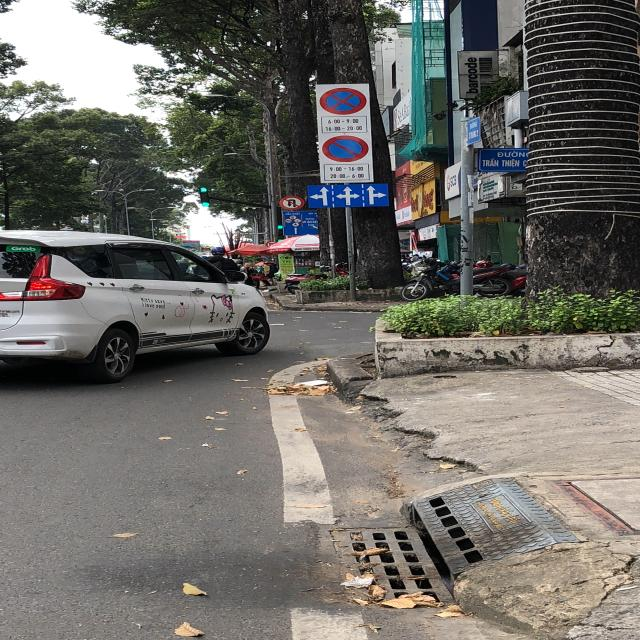Bien bao cam do xe: (320, 132, 373, 162)
Bien bao cam dung xe va do xe: (317, 87, 366, 114)
Bien bao cam quay dau xe: (277, 194, 306, 210)
